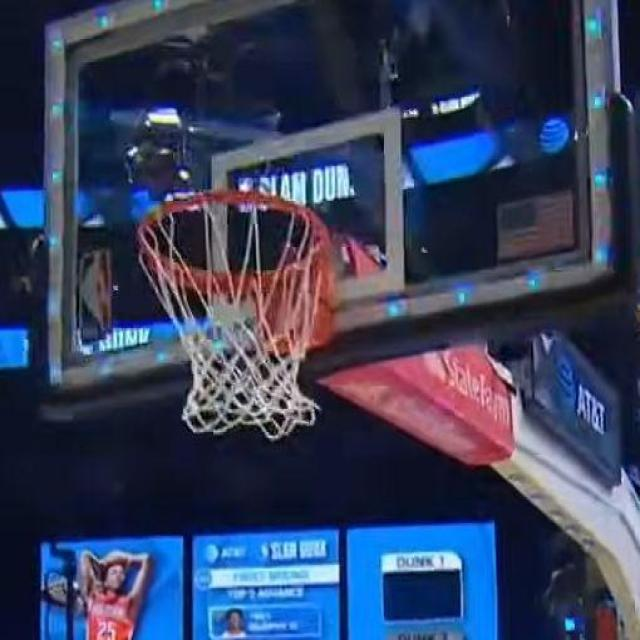hoop: (113, 187, 404, 464)
